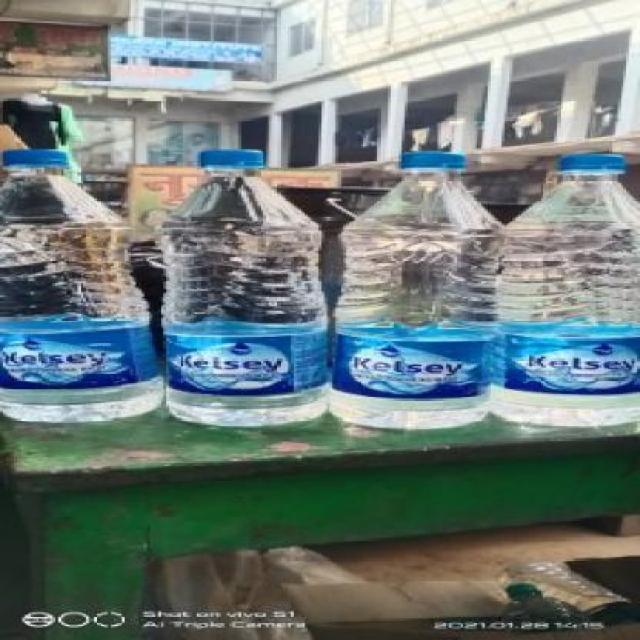bottle: (328, 147, 506, 436), (158, 147, 331, 432), (0, 146, 165, 430), (509, 132, 640, 433)
